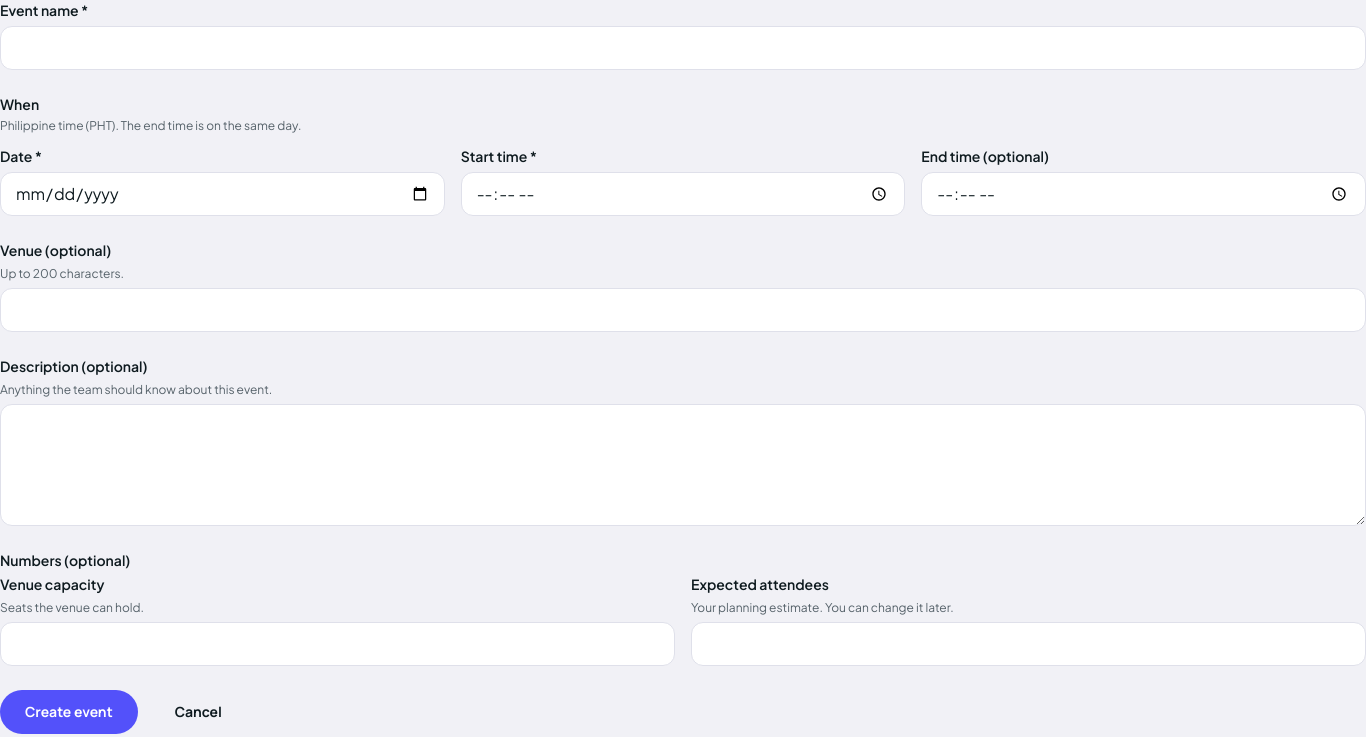
CreateEventForm › shows a save failure as a banner
Click the button "Create event" at (69, 712), box [0,690,138,734]
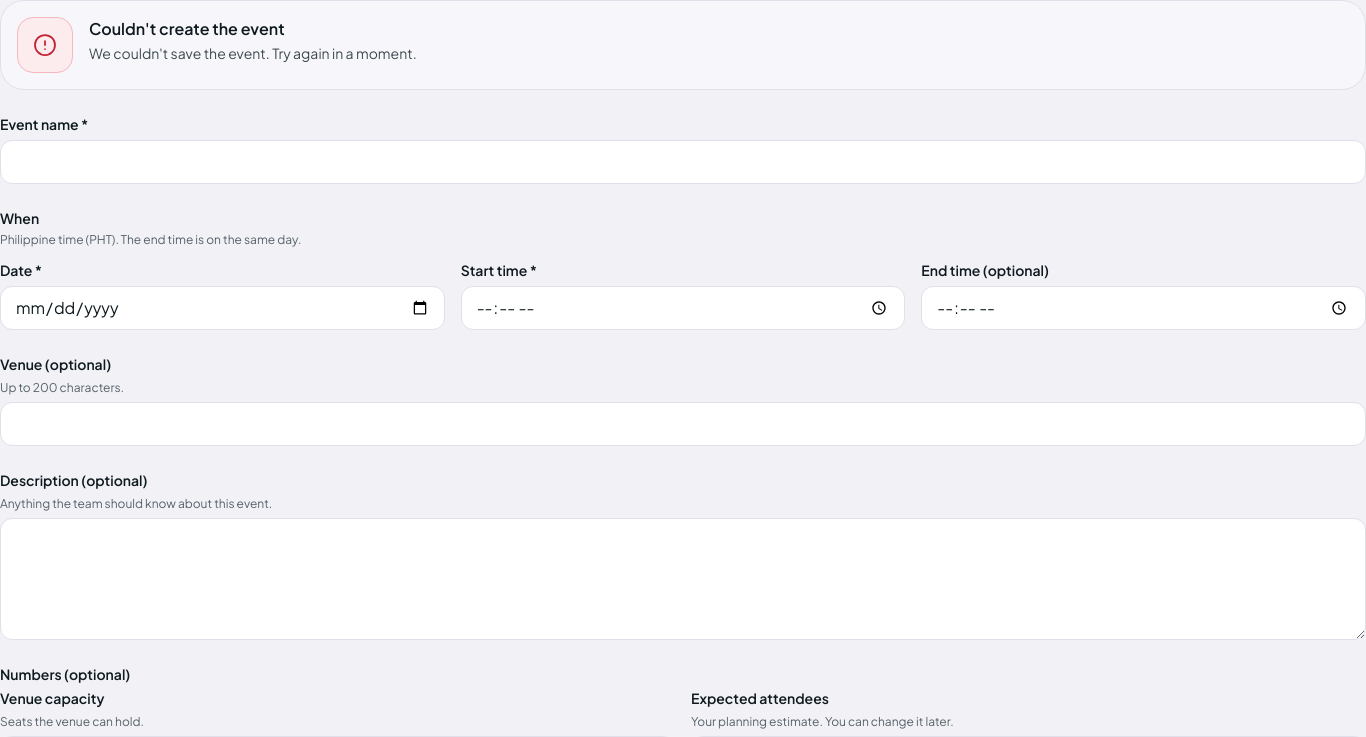
Now the text "We couldn't save the event. Try again in a moment." is shown, box [89,44,417,62]
Now the text "Couldn't create the event" is shown, box [88,17,285,39]
